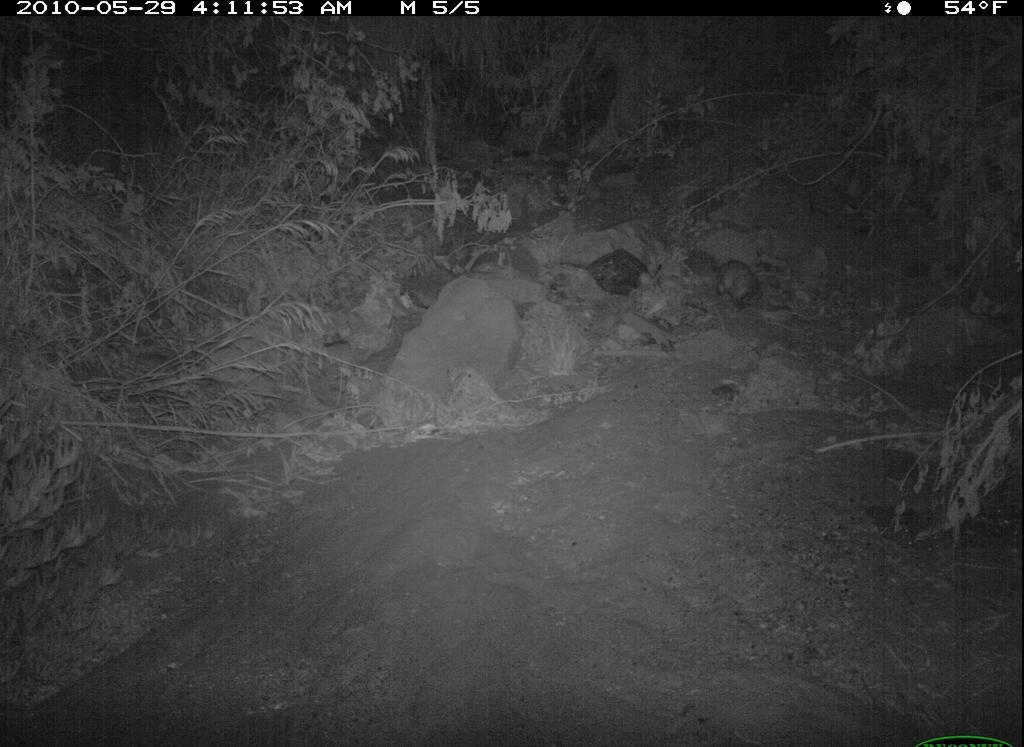opossum: (711, 255, 767, 316)
